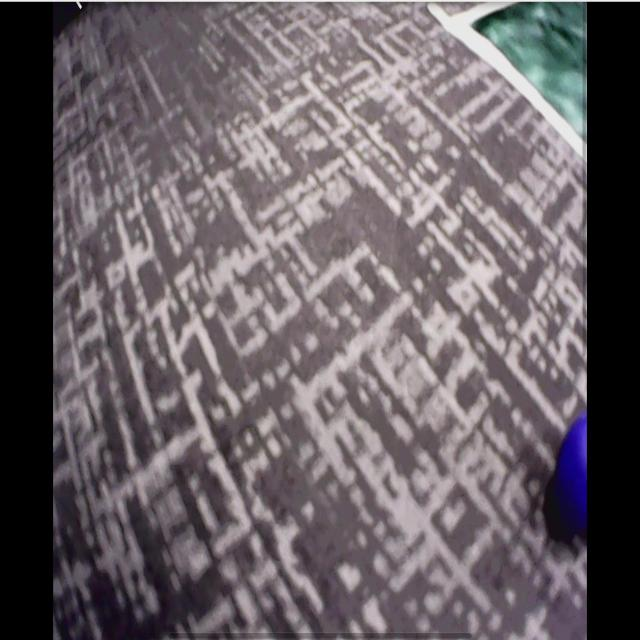ball: (566, 412, 588, 534)
